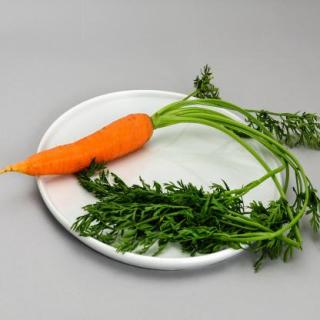Wortel: (22, 114, 155, 177)
